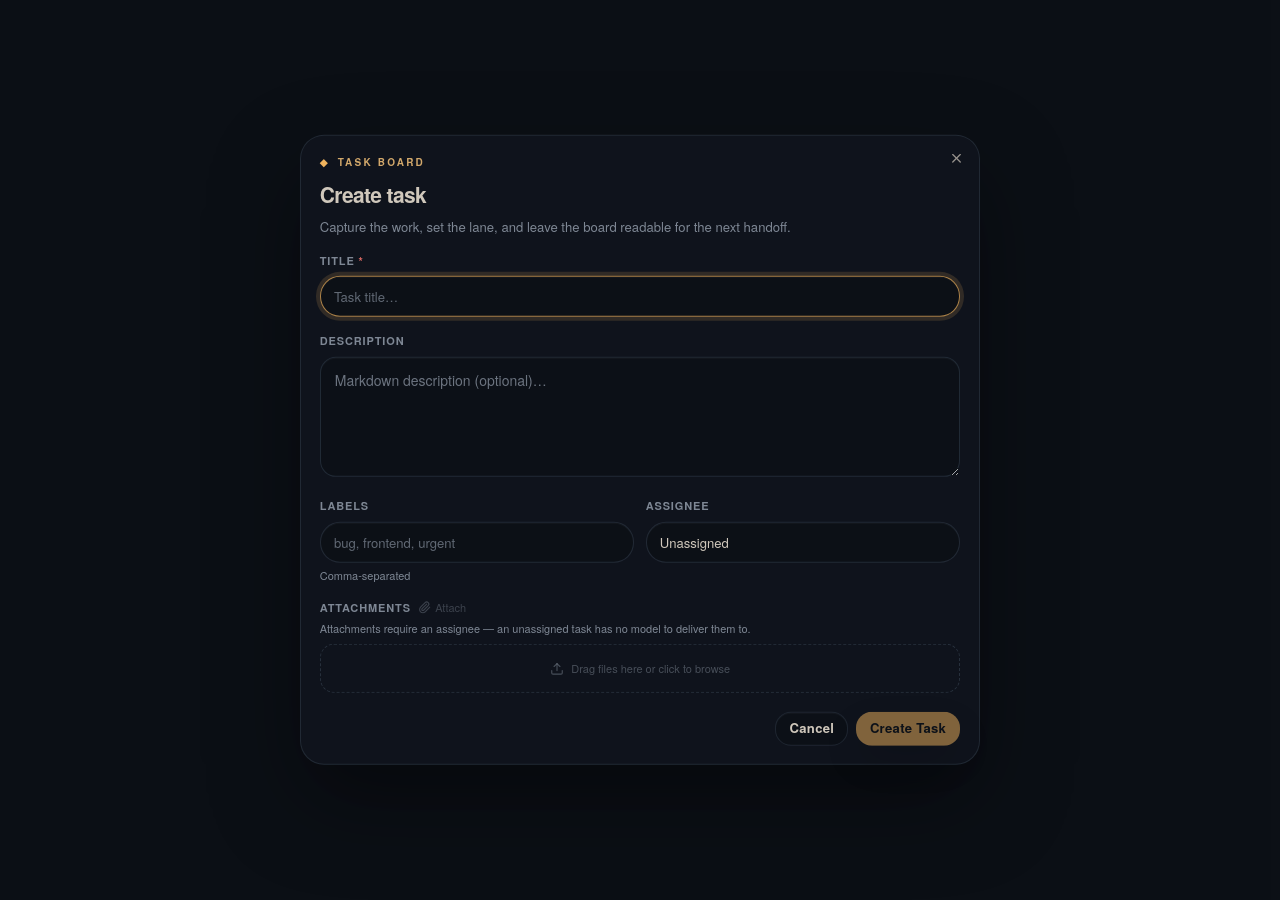
Test: CreateTaskDialog › shows Unassigned, Operator, and active top-level agents in the assignee picker
Click the dropdown labelled "Assignee": (803, 542) [646,522,960,563]
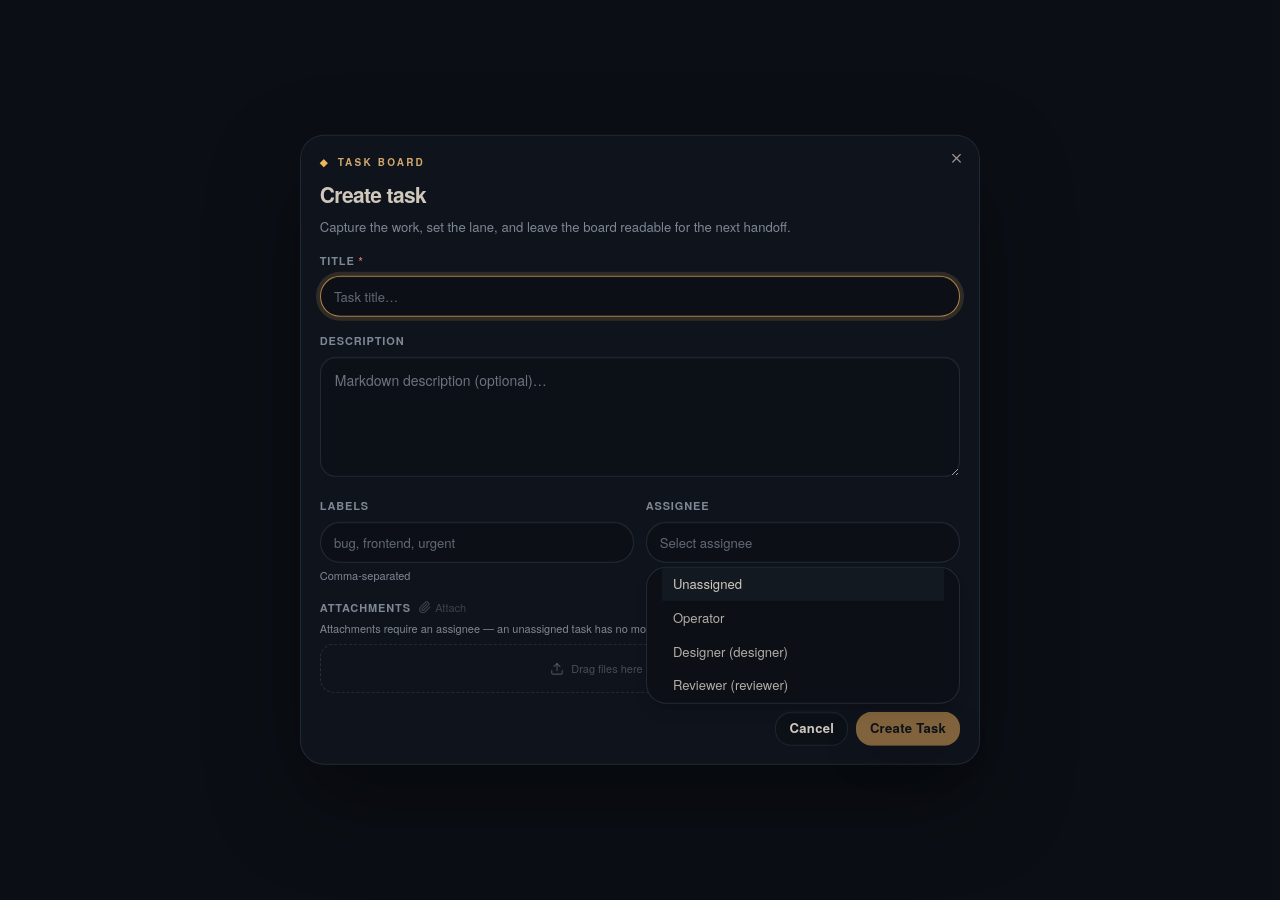
Check: the option "Unassigned" is shown, box [662,568,944,601]
Check: the option "Operator" is shown, box [673,608,724,627]
Check: the option "Designer (designer)" is shown, box [673,642,788,660]
